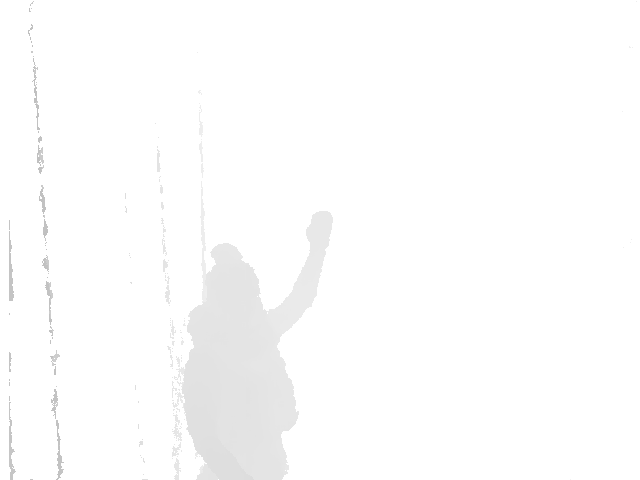hand: (305, 209, 335, 259)
head: (197, 243, 265, 329)
person: (180, 209, 334, 480)
